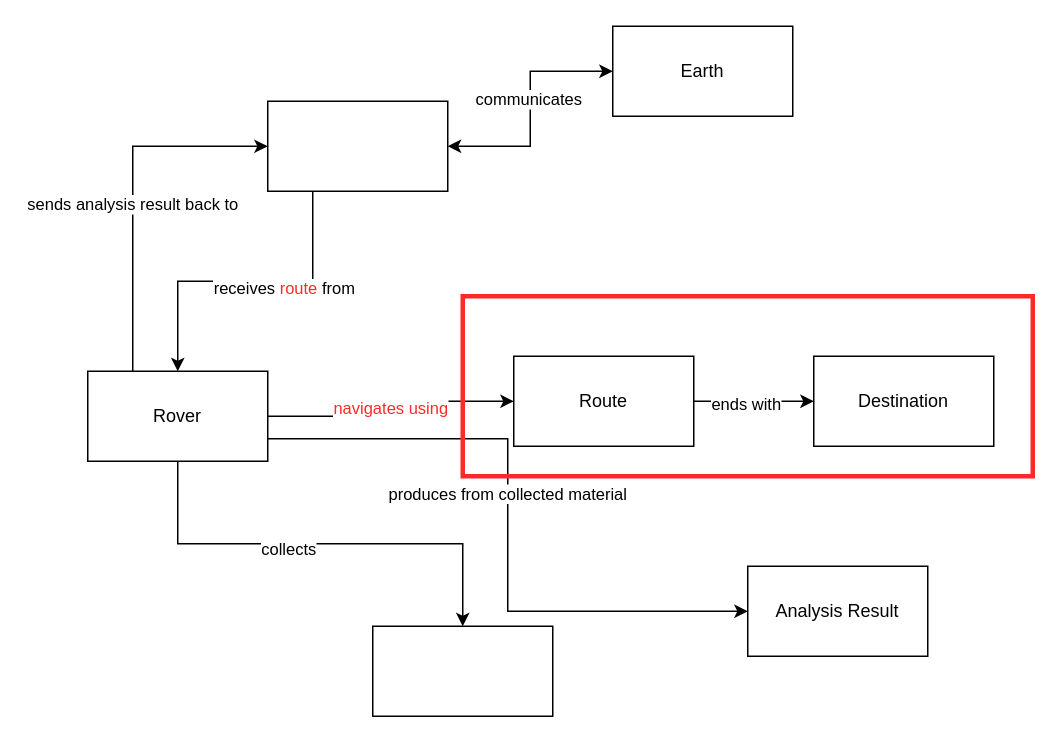
The diagram is 1061 pixels wide and 743 high, and some of its shapes have lost their labels. The shapes that lost their labels are listed below. From the top down, each one's centre as x and y in pixels, then its label:
(x=357, y=145): Radio Module
(x=462, y=670): Material
